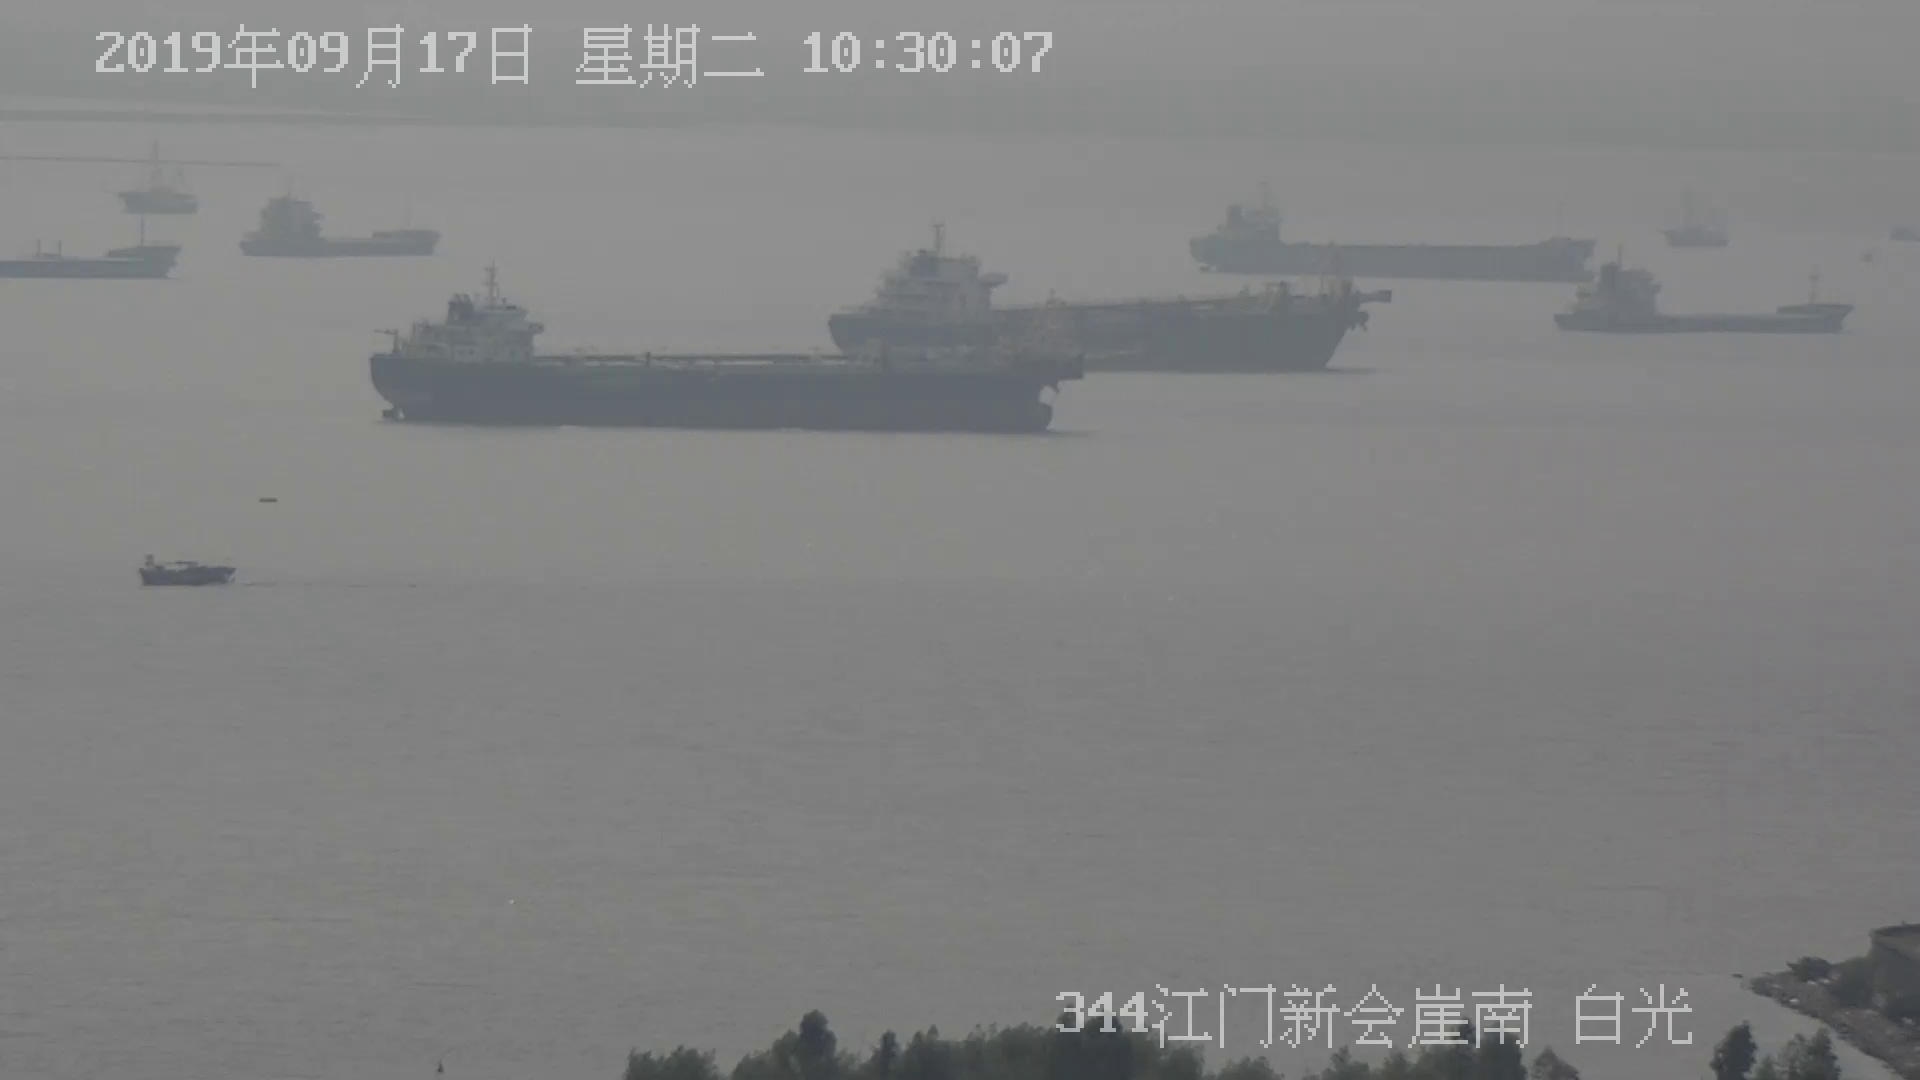ship: (375, 255, 1089, 433), (807, 181, 1374, 394), (1174, 181, 1592, 280), (1542, 251, 1858, 335), (237, 191, 442, 260), (7, 222, 186, 281), (138, 558, 239, 588)
